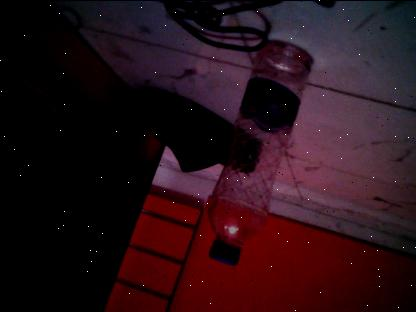Plastic Bottle: (206, 39, 312, 263)
